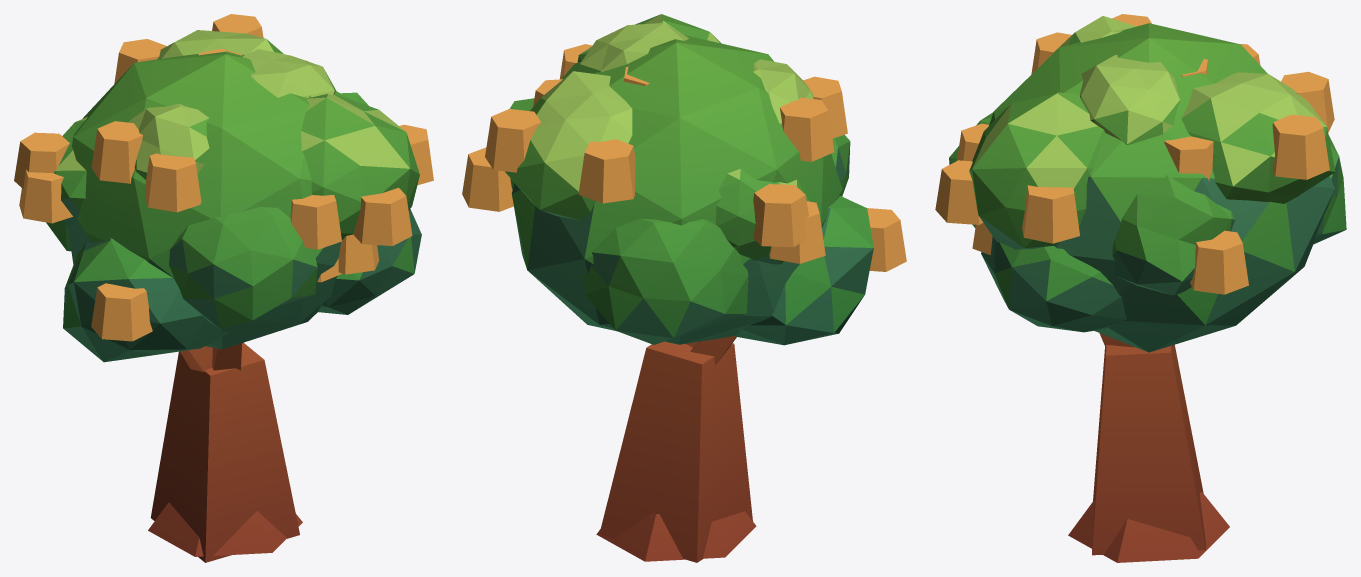
The model's file is orange_tree.7dc136a7a3.gltf.
3 views of the same model, side by side, from view 1: azimuth 30°, elevation 25°; view 2: azimuth 150°, elevation 25°; view 3: azimuth 270°, elevation 25° (orthographic). The views are drawn at different scales.
Visible parts, largest first — view 1: orange_tree; view 2: orange_tree; view 3: orange_tree.
Boxes of the visible parts, x1,y1,x2,y2 form: orange_tree: [14, 14, 433, 562]; orange_tree: [462, 14, 906, 562]; orange_tree: [935, 14, 1346, 562].
Size of the model in its own units: 2.04 by 2.69 by 2.01.
1 material, 1 textured.
